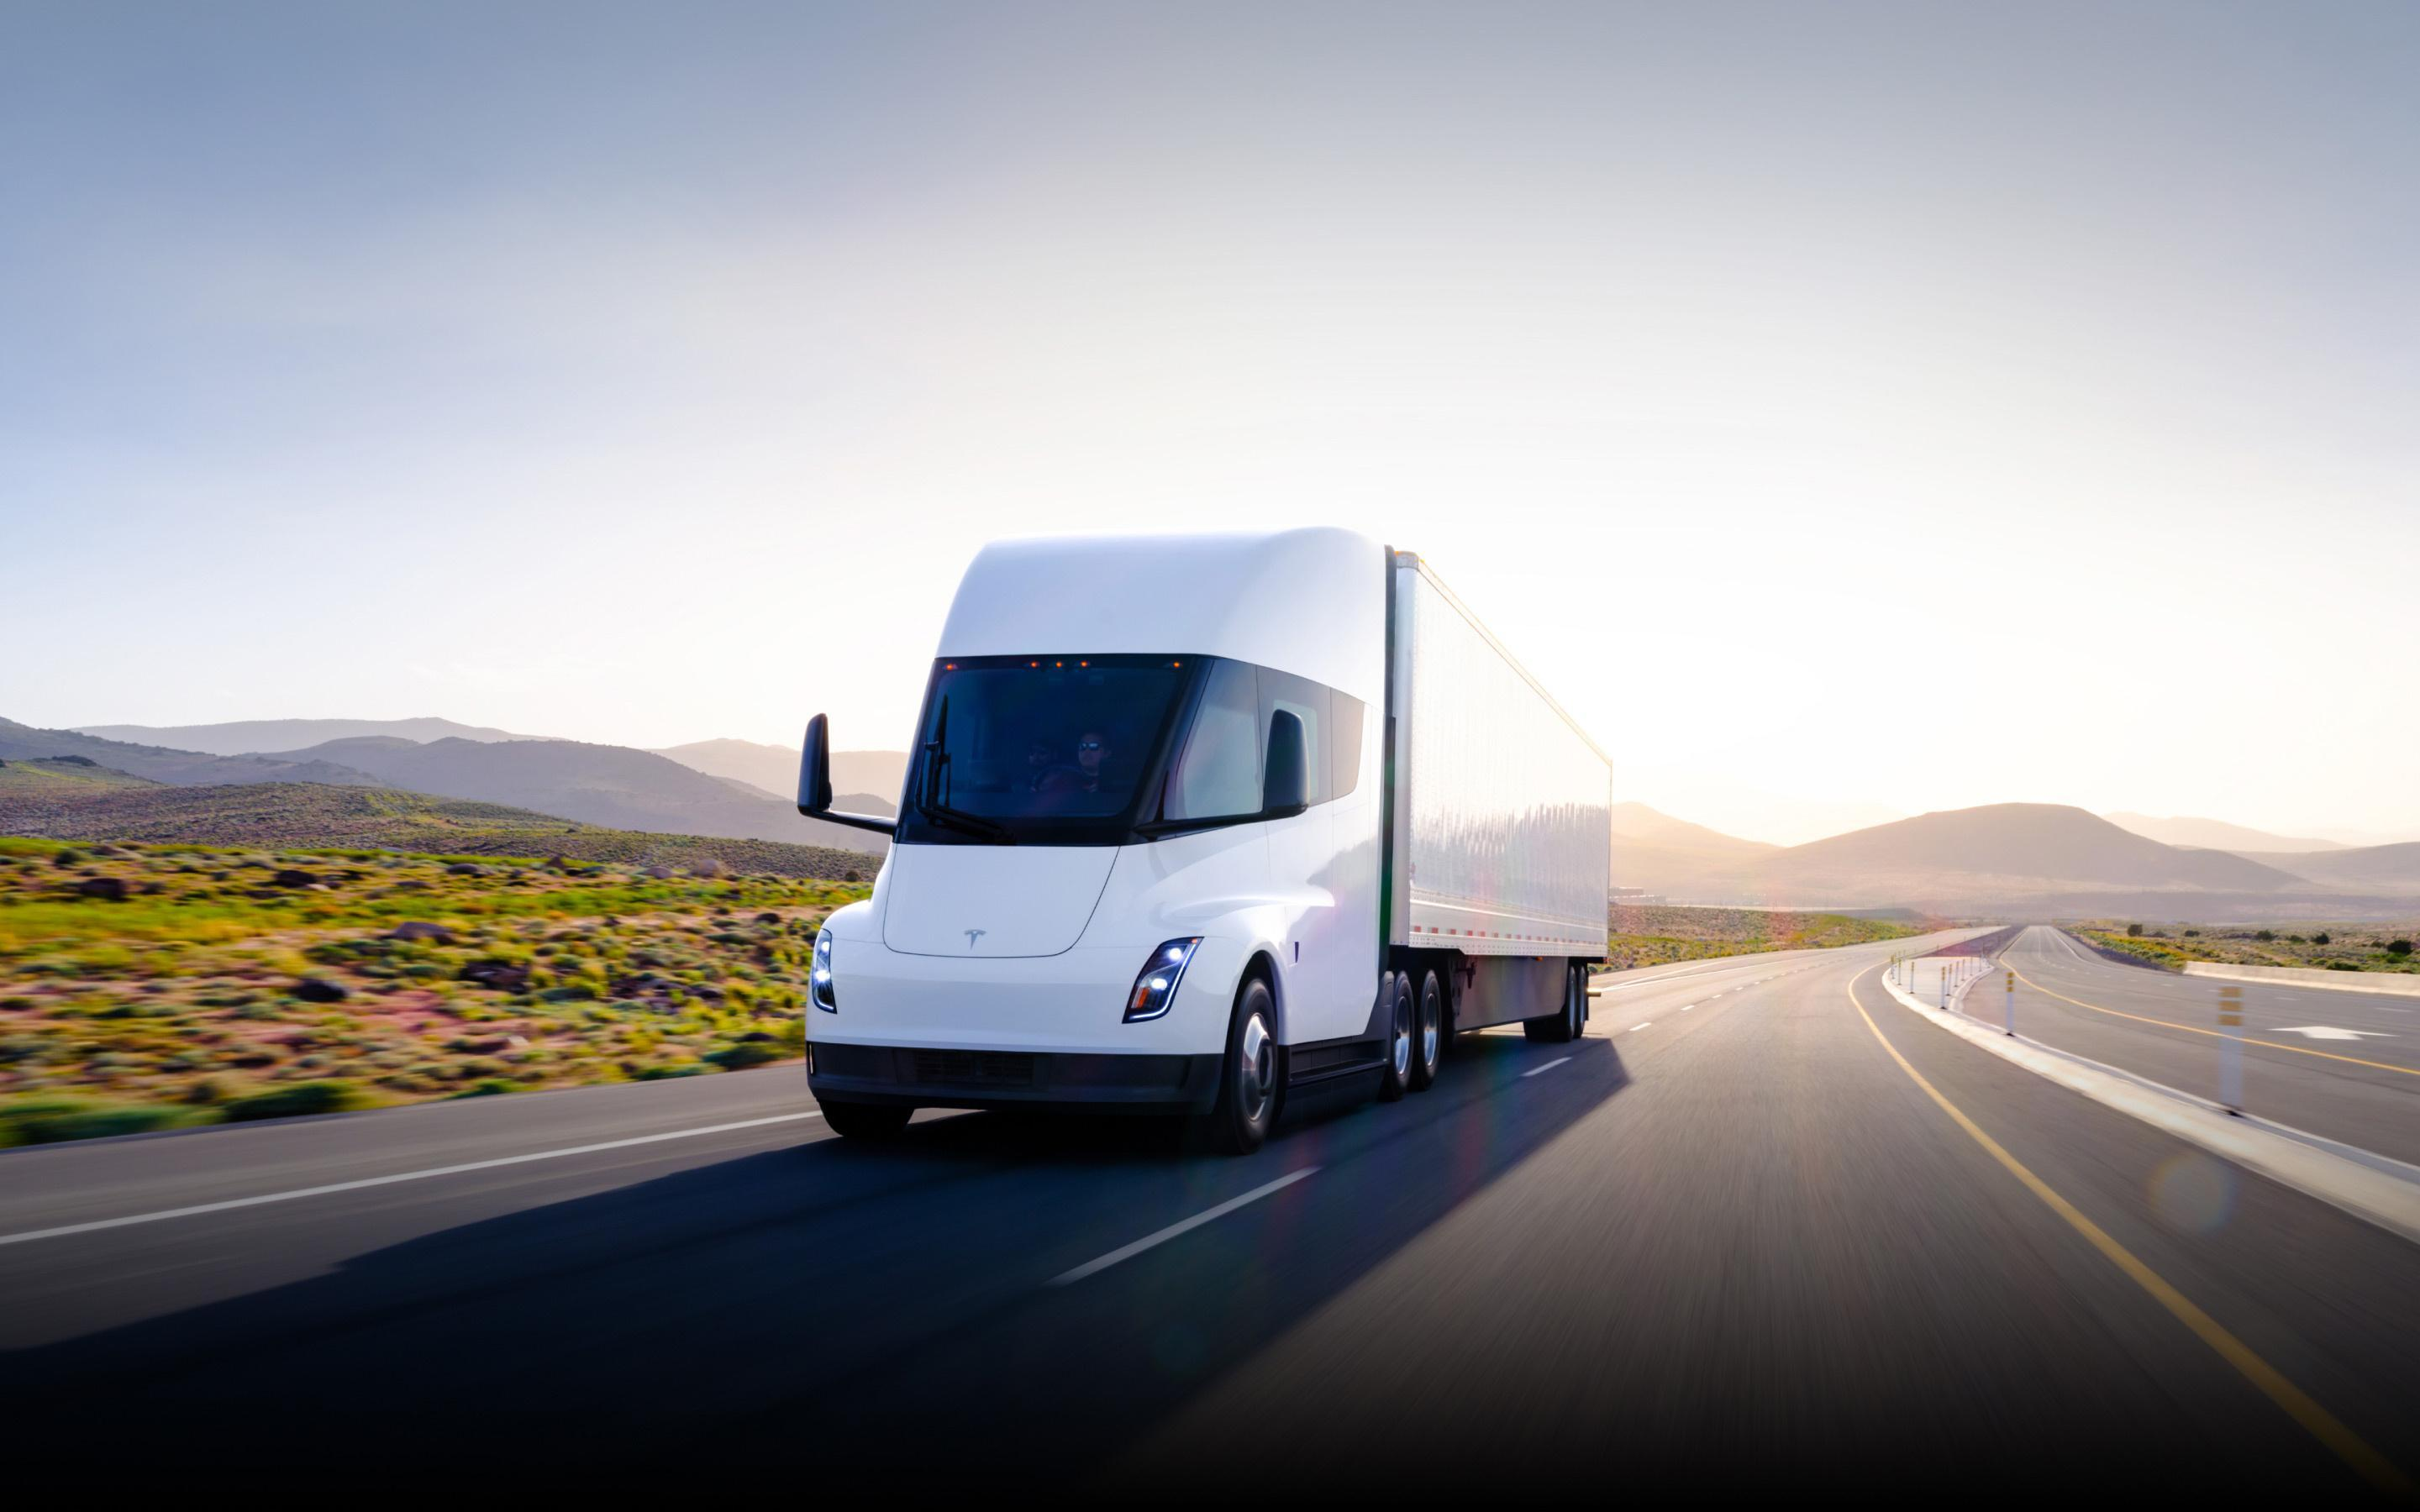truck: (796, 528, 1610, 1160)
